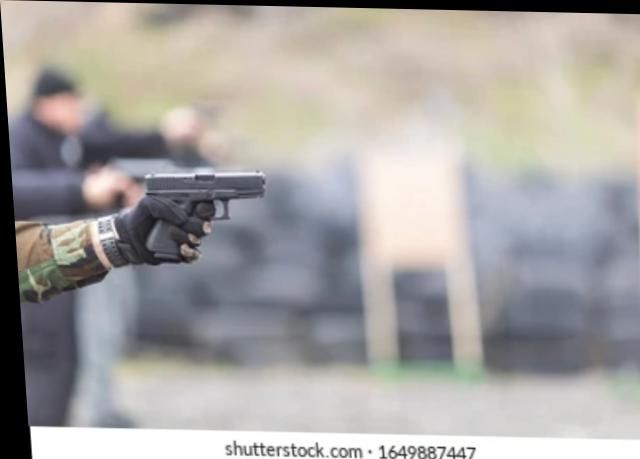other: (7, 65, 144, 428), (8, 149, 194, 276)
